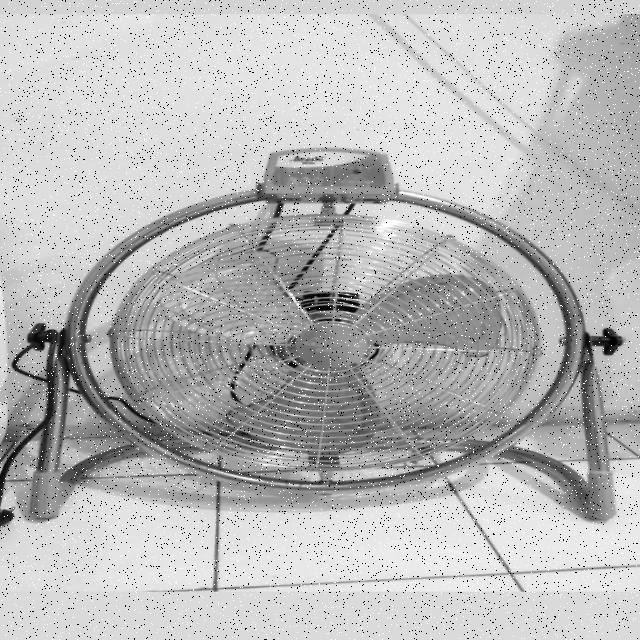fan: (48, 159, 640, 521)
